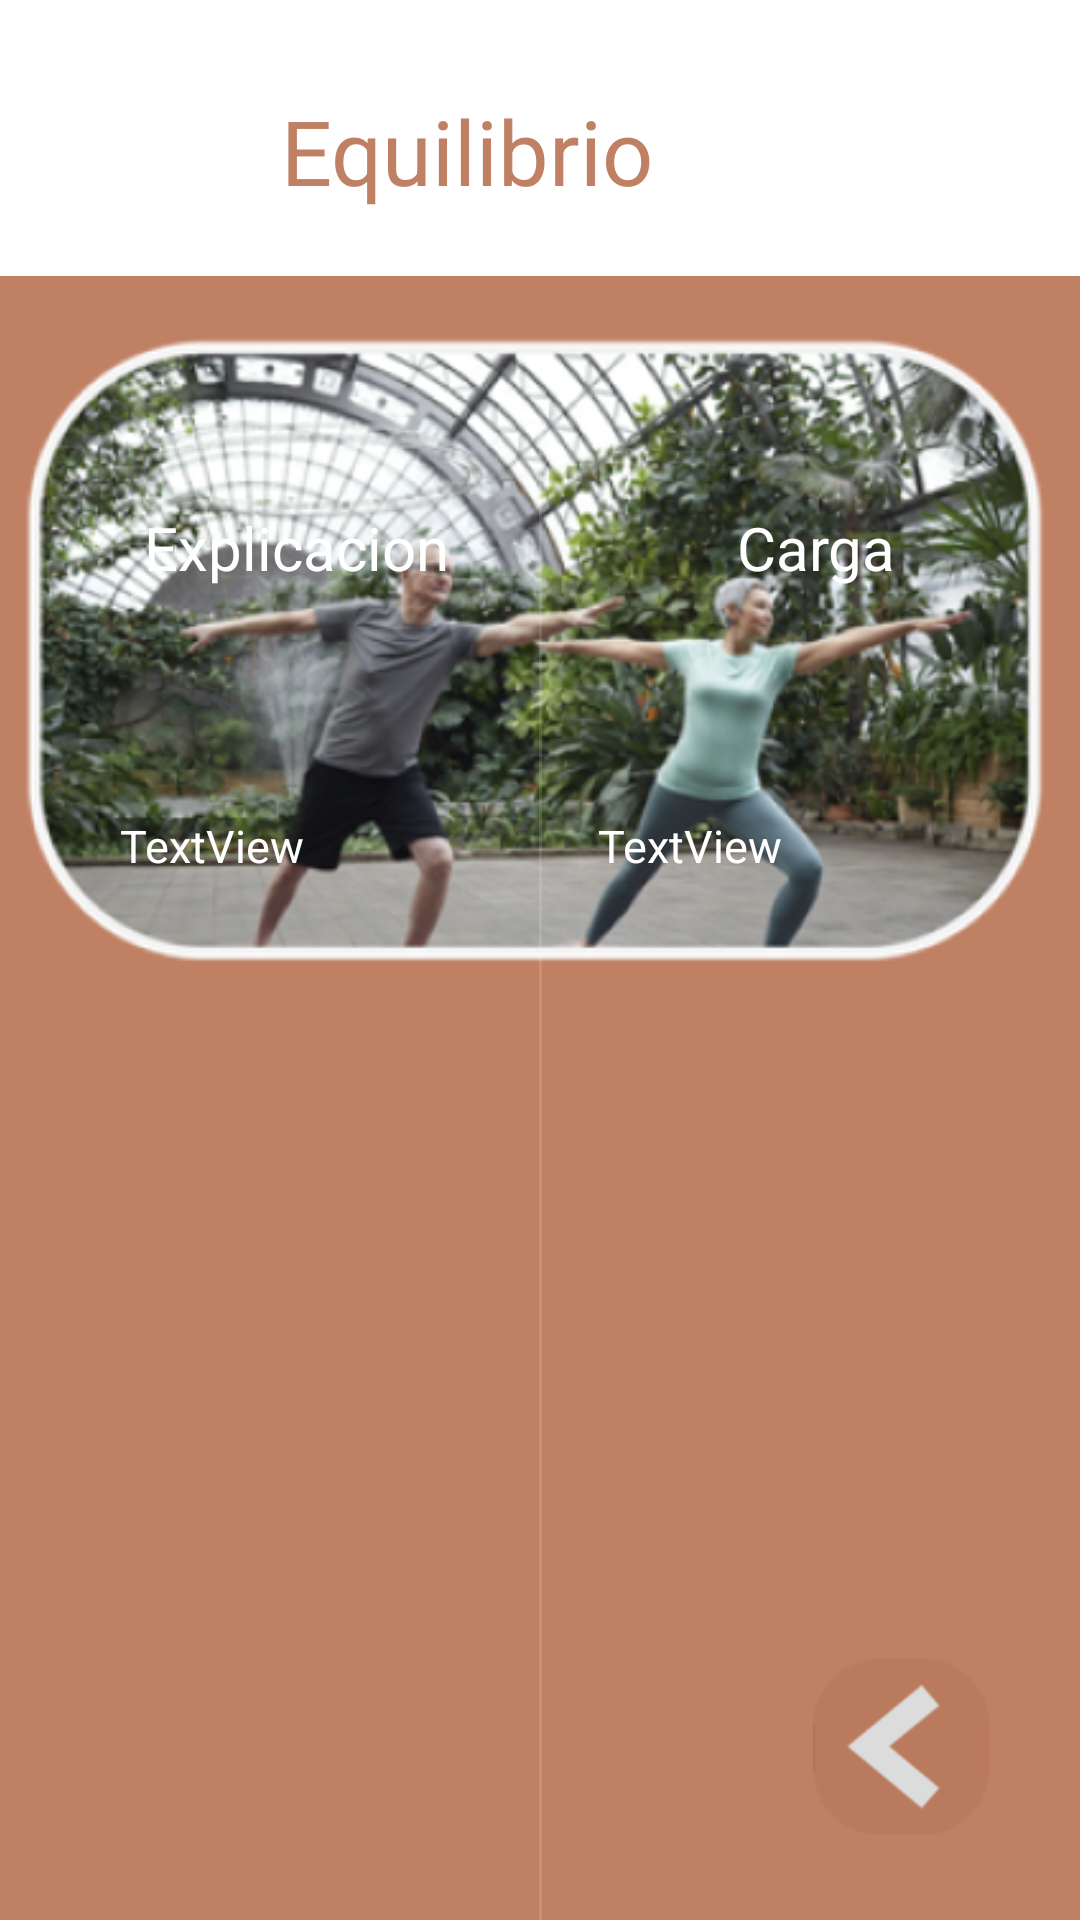

Icon click points for this 1080px x 1920px phone screenshot, format point (x, y):
regresar: point (893, 1746)
